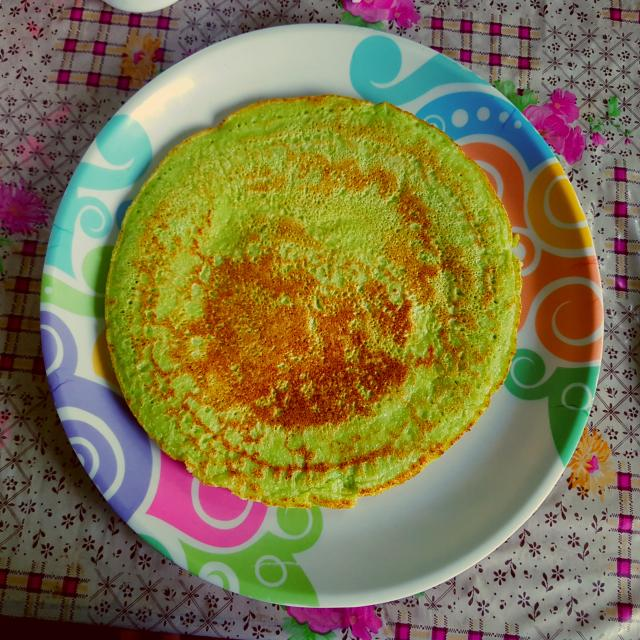MEDU VADA: (171, 96, 456, 478), (114, 199, 133, 231)
